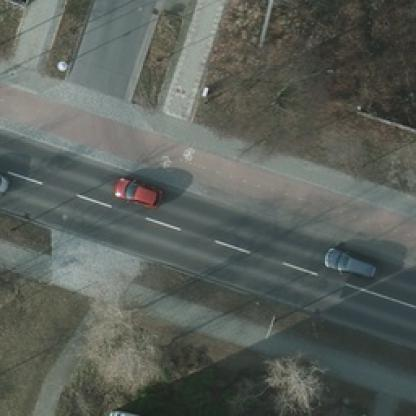car: (318, 244, 374, 274), (112, 172, 161, 206)
